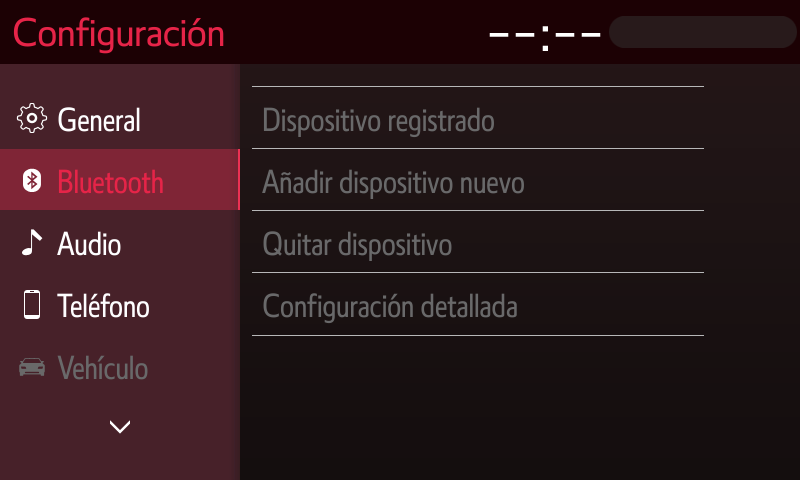touchPart: (17, 283, 163, 329), (10, 101, 155, 137), (21, 227, 144, 267), (99, 405, 147, 439)
untouchPart: (247, 200, 711, 281), (249, 141, 710, 220), (252, 268, 711, 344), (247, 81, 710, 154), (1, 144, 242, 212), (475, 13, 793, 54), (7, 9, 236, 61), (14, 354, 174, 383)
